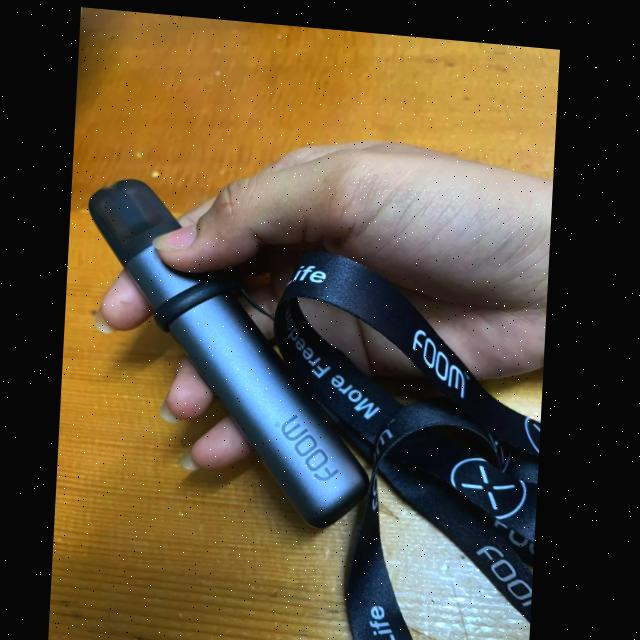vape: (80, 166, 387, 531)
